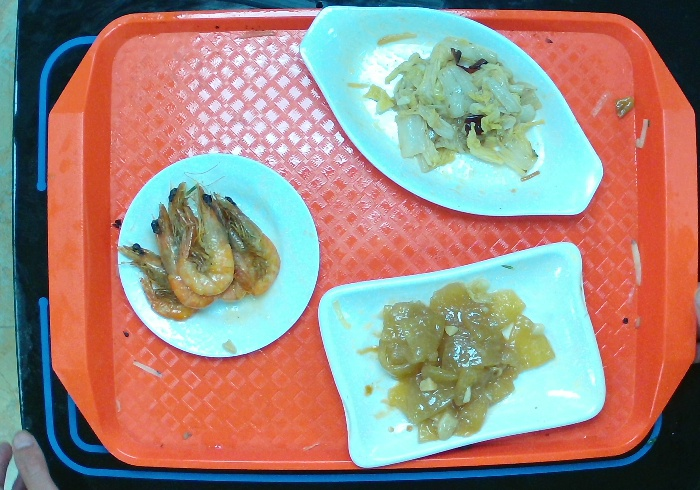RJxy-Si_Fang_Ao_Bian_Wan: (317, 242, 609, 470)
RJxy-Xiao_Yuan_Die: (116, 152, 323, 357)
RJxy-Yu_Pan: (299, 6, 608, 222)
